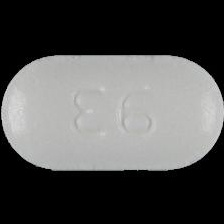54868-5055: (0, 0, 224, 224)
